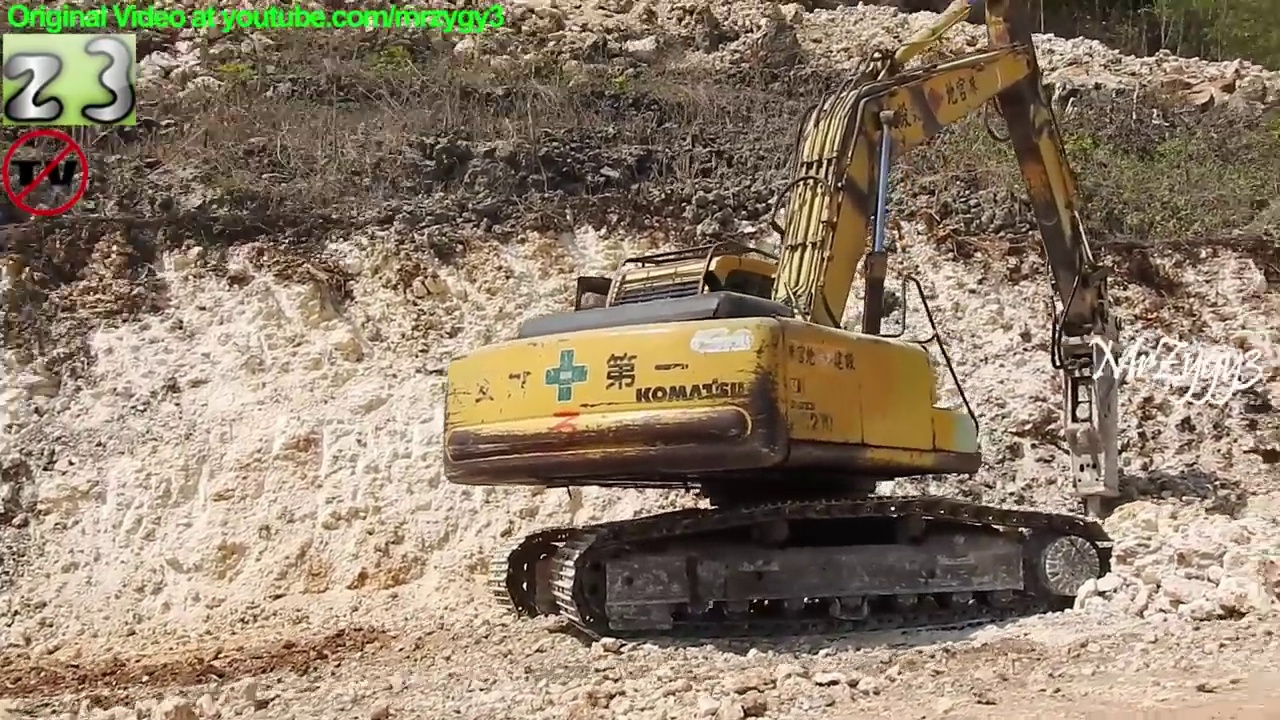excavator breaker: (432, 1, 1138, 652)
